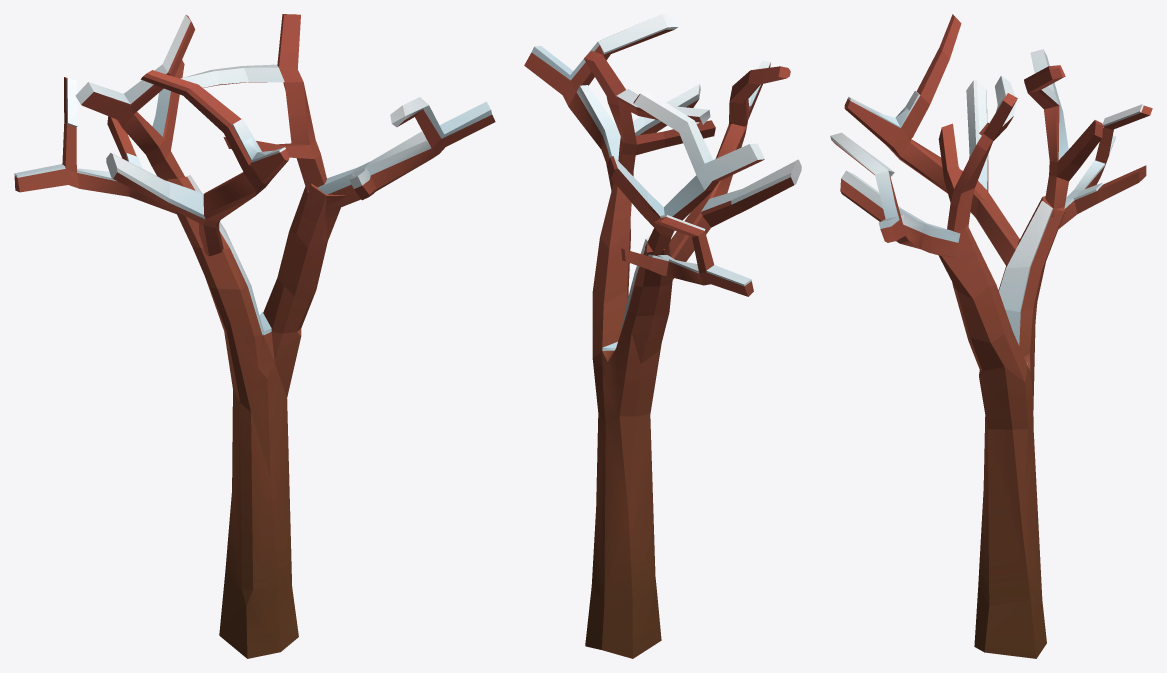
The picture shows the model from 3 angles, left to right: view 1: azimuth 30°, elevation 25°; view 2: azimuth 150°, elevation 25°; view 3: azimuth 270°, elevation 25°; orthographic projection. The views are drawn at different scales.
Visible parts, largest first — view 1: SnowyDeadTree1; view 2: SnowyDeadTree1; view 3: SnowyDeadTree1.
Boxes of the visible parts, x1,y1,x2,y2 form: SnowyDeadTree1: (14, 14, 495, 658); SnowyDeadTree1: (524, 14, 801, 658); SnowyDeadTree1: (830, 14, 1152, 658).
Bounding box in the file's own units: 3.47 × 5.81 × 2.97.
Materials: 1 (1 with a texture image).
